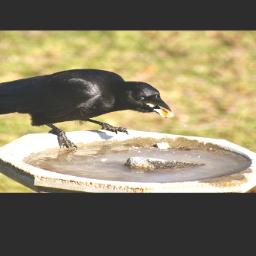Crow: (0, 68, 175, 150)
